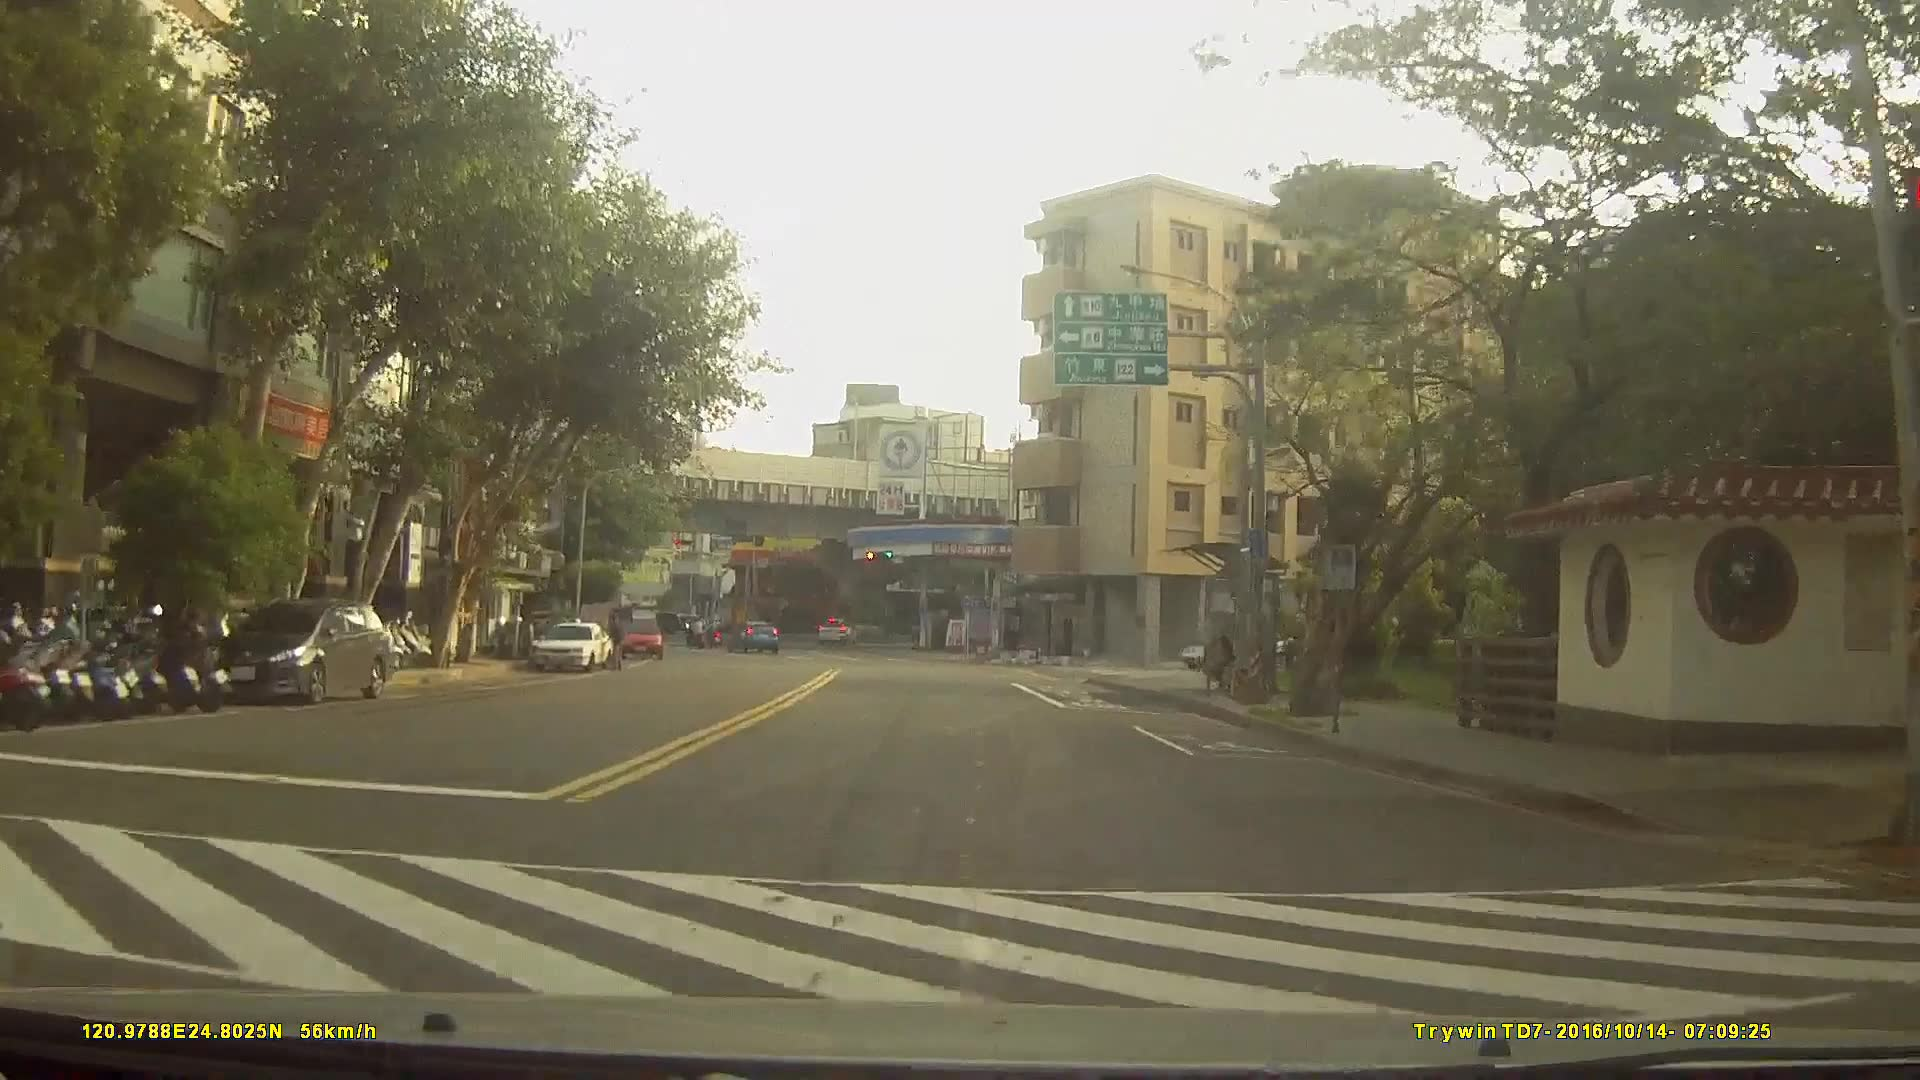rider: (683, 615, 707, 651)
vehicle: (215, 595, 389, 702), (531, 617, 614, 672), (620, 615, 664, 657), (725, 617, 779, 651), (818, 612, 859, 640)
